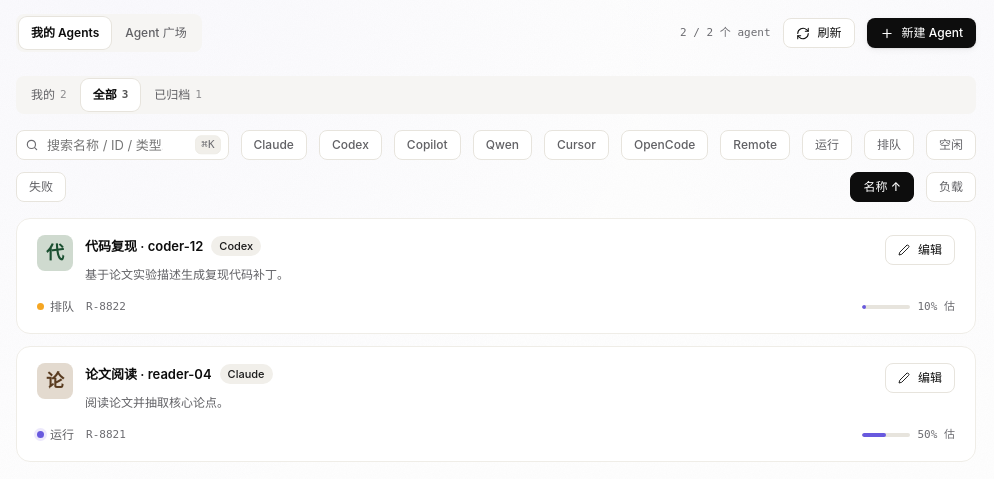
Test case: AgentsView list-page (M5.1 multica) › a kind filter chip narrows the list + updates result-count
Expected: the text "论文阅读 · reader-04" is shown, [85,364,212,385]
Expected: the text "代码复现 · coder-12" is shown, [85,236,203,257]
Step 1. Click the button "Codex" → (350, 145), box [319,130,382,160]
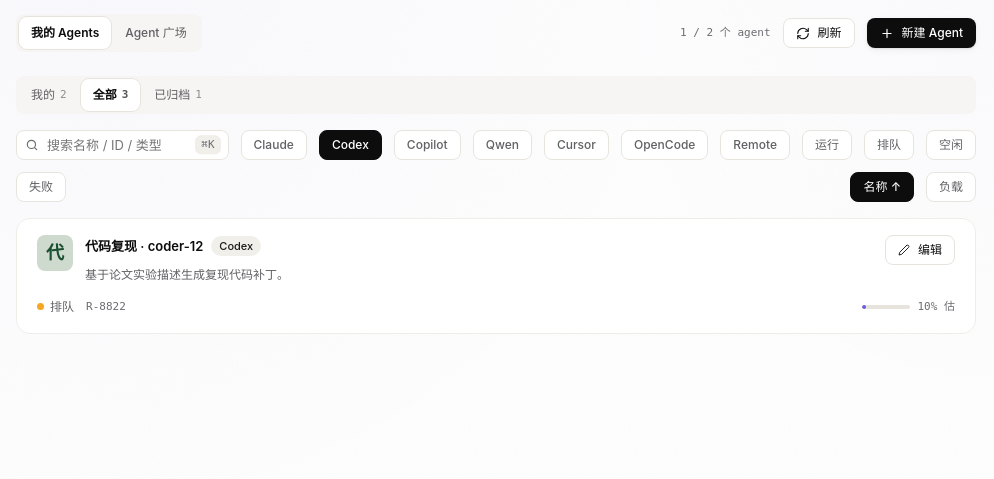
Expected: the text "代码复现 · coder-12" is shown, [85,236,203,257]
Expected: the button "论文阅读 · reader-04" is gone
Expected: the text with class "result-count" reads "1 / 2 个 agent", [680,26,771,39]
